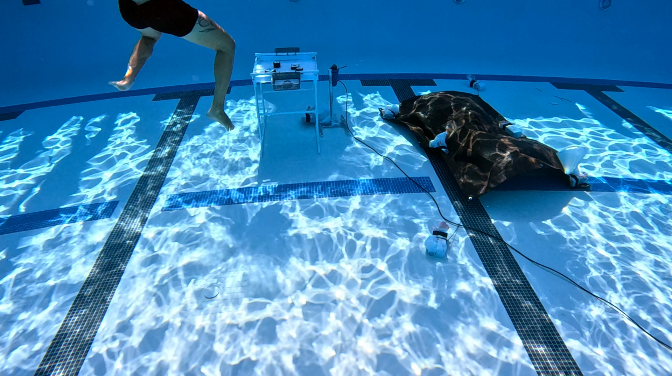pathmarker: (376, 78, 575, 199)
